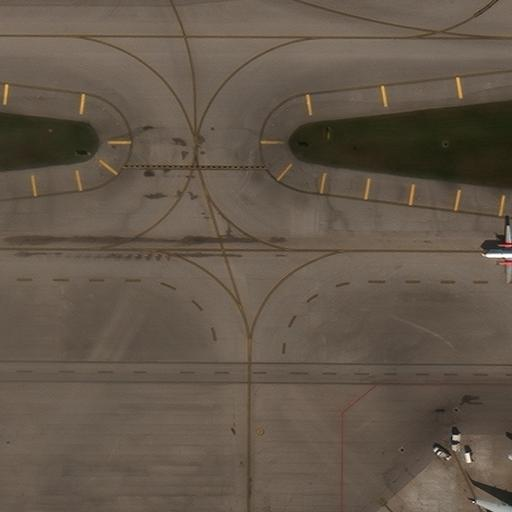Large Civil Transport: (474, 470, 511, 512)
Medium Civil Transport: (480, 225, 511, 283)
